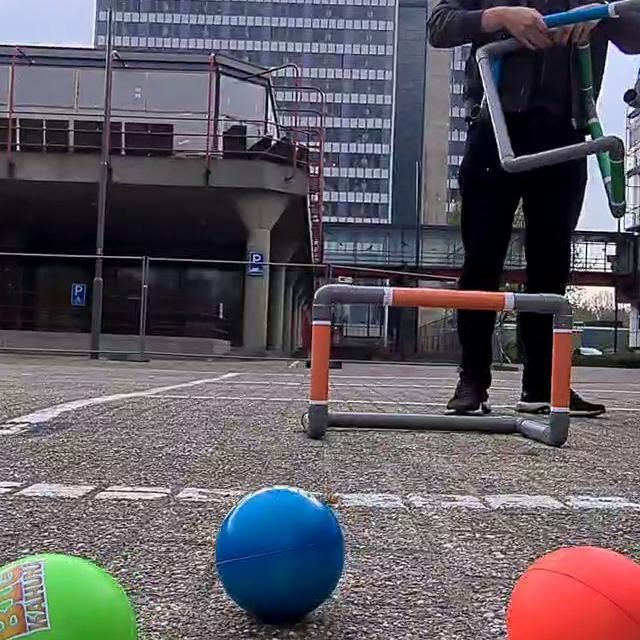ball: (214, 485, 350, 624), (504, 539, 640, 640)
